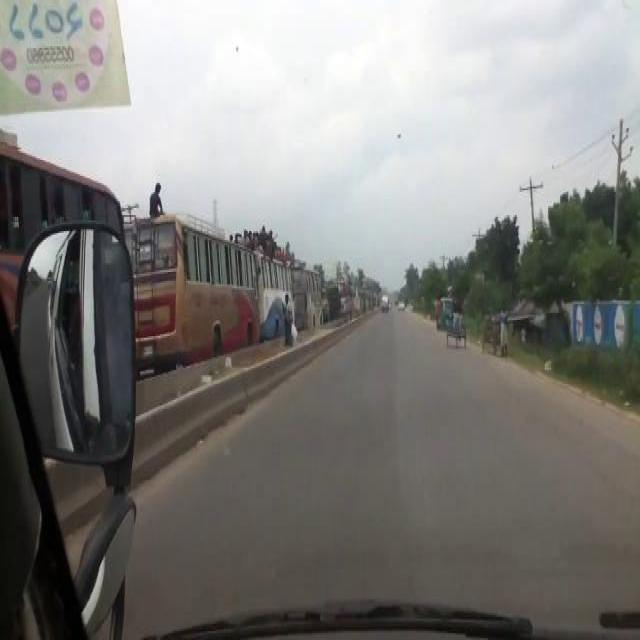bus: (122, 212, 266, 370), (256, 250, 296, 344), (290, 263, 322, 331)
wheelbarrow: (444, 299, 468, 352), (480, 314, 506, 354)
